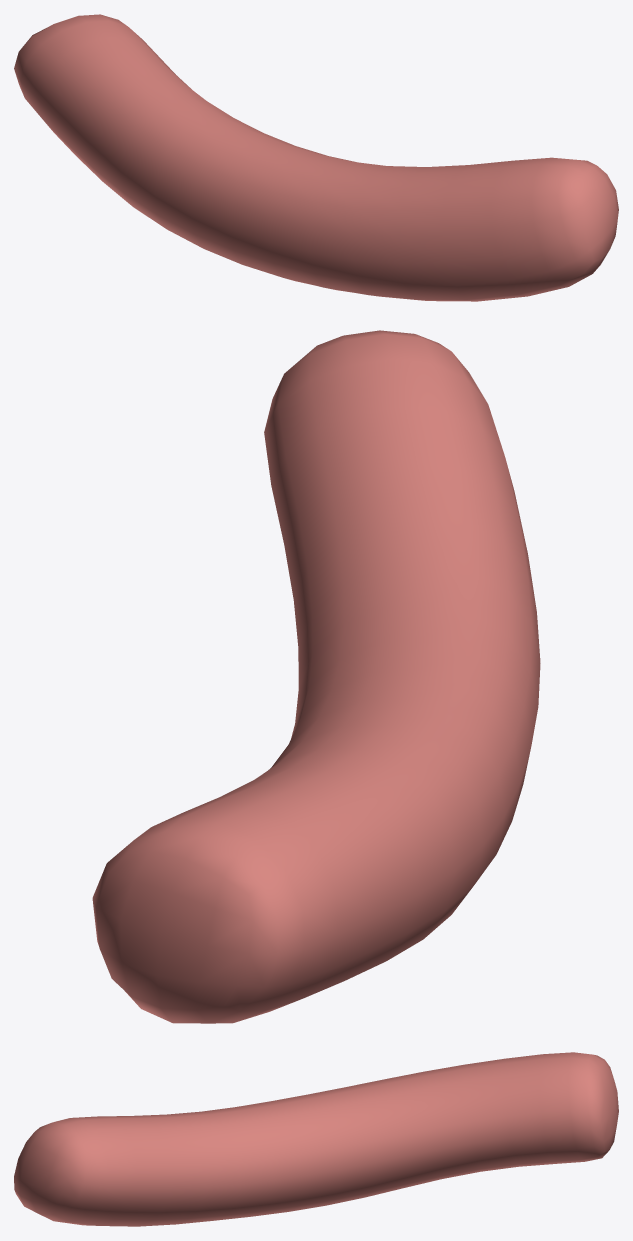
3 views of the same model, one above another, from view 1: azimuth 30°, elevation 25°; view 2: azimuth 150°, elevation 25°; view 3: azimuth 270°, elevation 25° (orthographic). The views are drawn at different scales.
Parts seen in each view (by area): view 1: ZA_70a7bdabb2f65a44; view 2: ZA_70a7bdabb2f65a44; view 3: ZA_70a7bdabb2f65a44.
Boxes of the visible parts, x1,y1,x2,y2 form: ZA_70a7bdabb2f65a44: (14, 14, 618, 301); ZA_70a7bdabb2f65a44: (92, 330, 540, 1023); ZA_70a7bdabb2f65a44: (14, 1052, 618, 1226).
Size of the model in its own units: 0.0138 by 0.00711 by 0.027.
